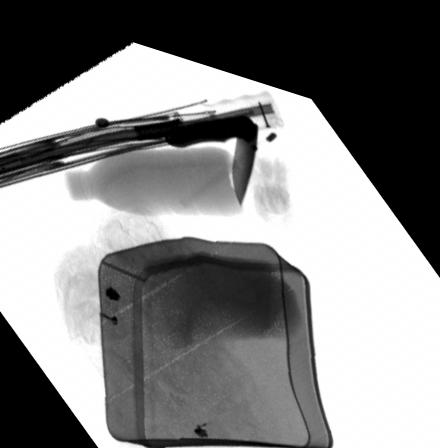Knife: (161, 97, 259, 192)
